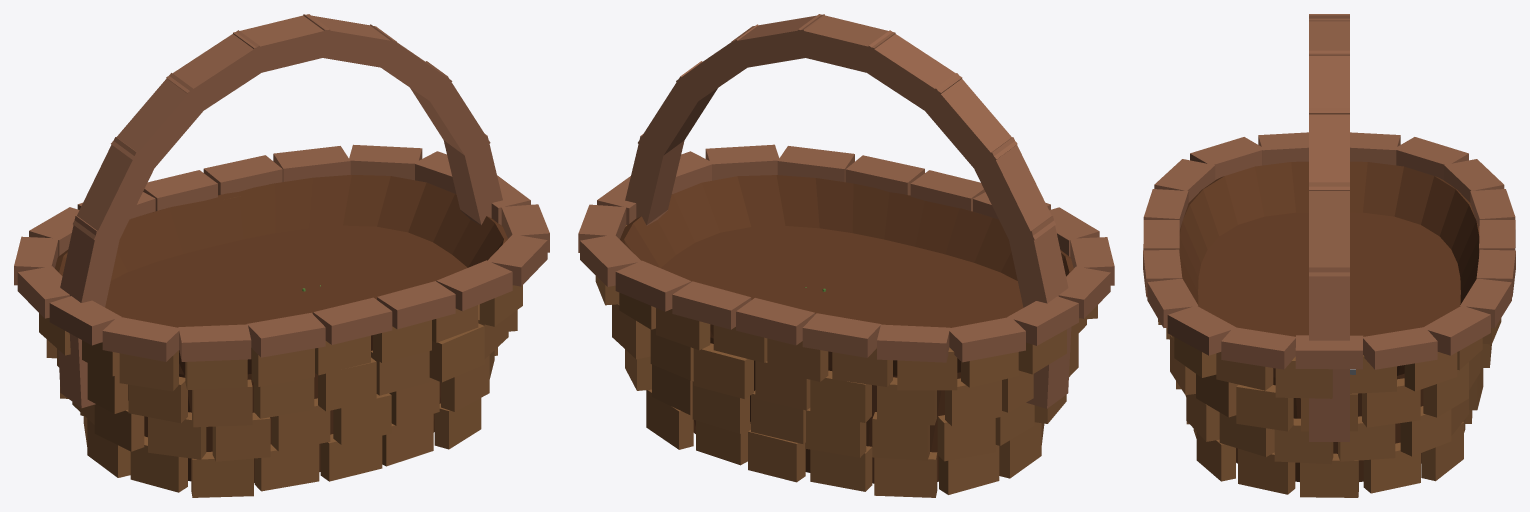
The model's file is HarvestBasket.glb.
The picture shows the model from 3 angles, left to right: view 1: azimuth 30°, elevation 25°; view 2: azimuth 150°, elevation 25°; view 3: azimuth 270°, elevation 25°; orthographic projection. The views are drawn at different scales.
Parts seen in each view (by area): view 1: HarvestBasket_Weave, HarvestBasket_Inner, HarvestBasket_Rim, HarvestBasket_Handle; view 2: HarvestBasket_Weave, HarvestBasket_Inner, HarvestBasket_Rim, HarvestBasket_Handle; view 3: HarvestBasket_Inner, HarvestBasket_Weave, HarvestBasket_Rim, HarvestBasket_Handle.
Boxes of the visible parts, left/top/right/bottom form: HarvestBasket_Weave: left=39, top=196, right=522, bottom=497; HarvestBasket_Inner: left=55, top=175, right=507, bottom=482; HarvestBasket_Rim: left=14, top=144, right=549, bottom=361; HarvestBasket_Handle: left=58, top=14, right=502, bottom=408; HarvestBasket_Weave: left=595, top=225, right=1097, bottom=497; HarvestBasket_Inner: left=620, top=175, right=1073, bottom=483; HarvestBasket_Rim: left=578, top=144, right=1114, bottom=362; HarvestBasket_Handle: left=625, top=14, right=1071, bottom=408; HarvestBasket_Inner: left=1179, top=161, right=1479, bottom=481; HarvestBasket_Weave: left=1158, top=318, right=1501, bottom=497; HarvestBasket_Rim: left=1143, top=132, right=1515, bottom=369; HarvestBasket_Handle: left=1309, top=14, right=1349, bottom=441.
Size of the model in its own units: 0.6635 by 0.5741 by 0.4756.
